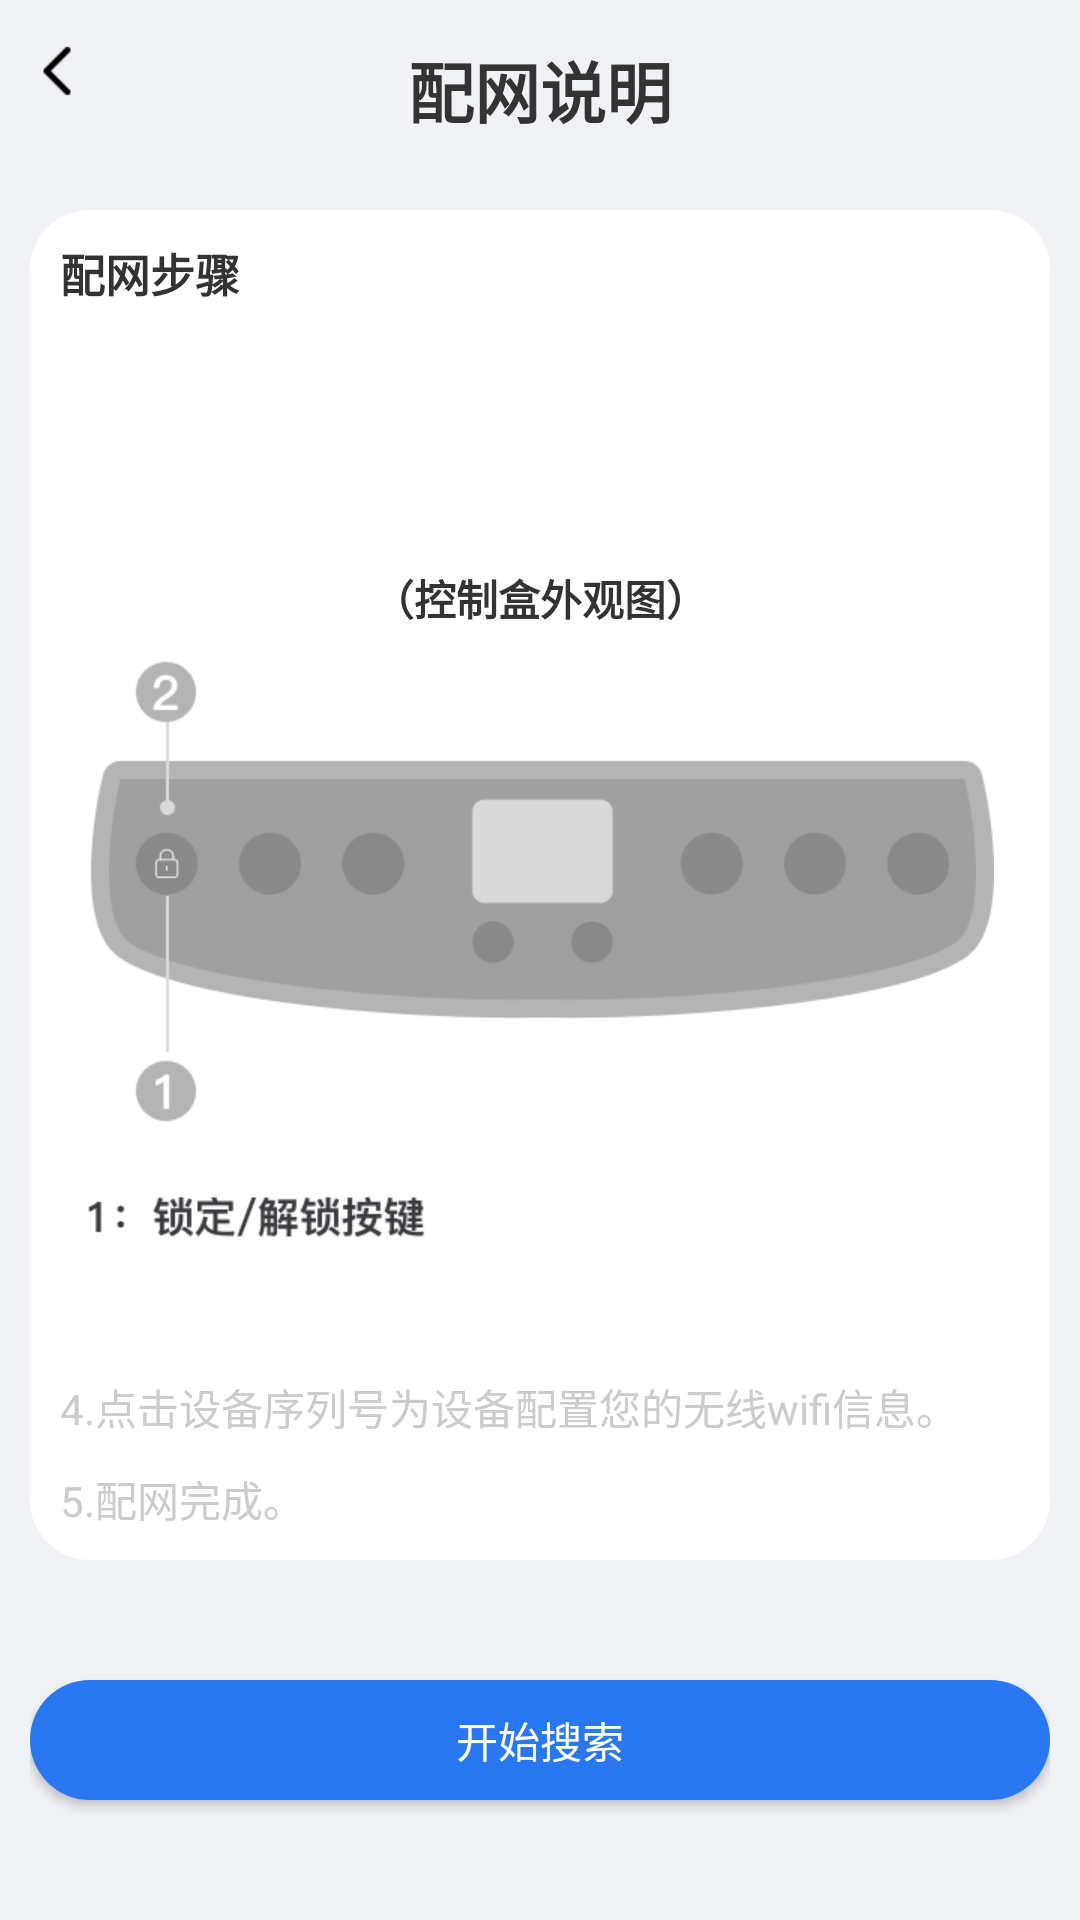

Icons on this 1080x1920 Android screen, each with its box as (x1, y1, x2, y2):
back: (43, 46, 71, 96)
